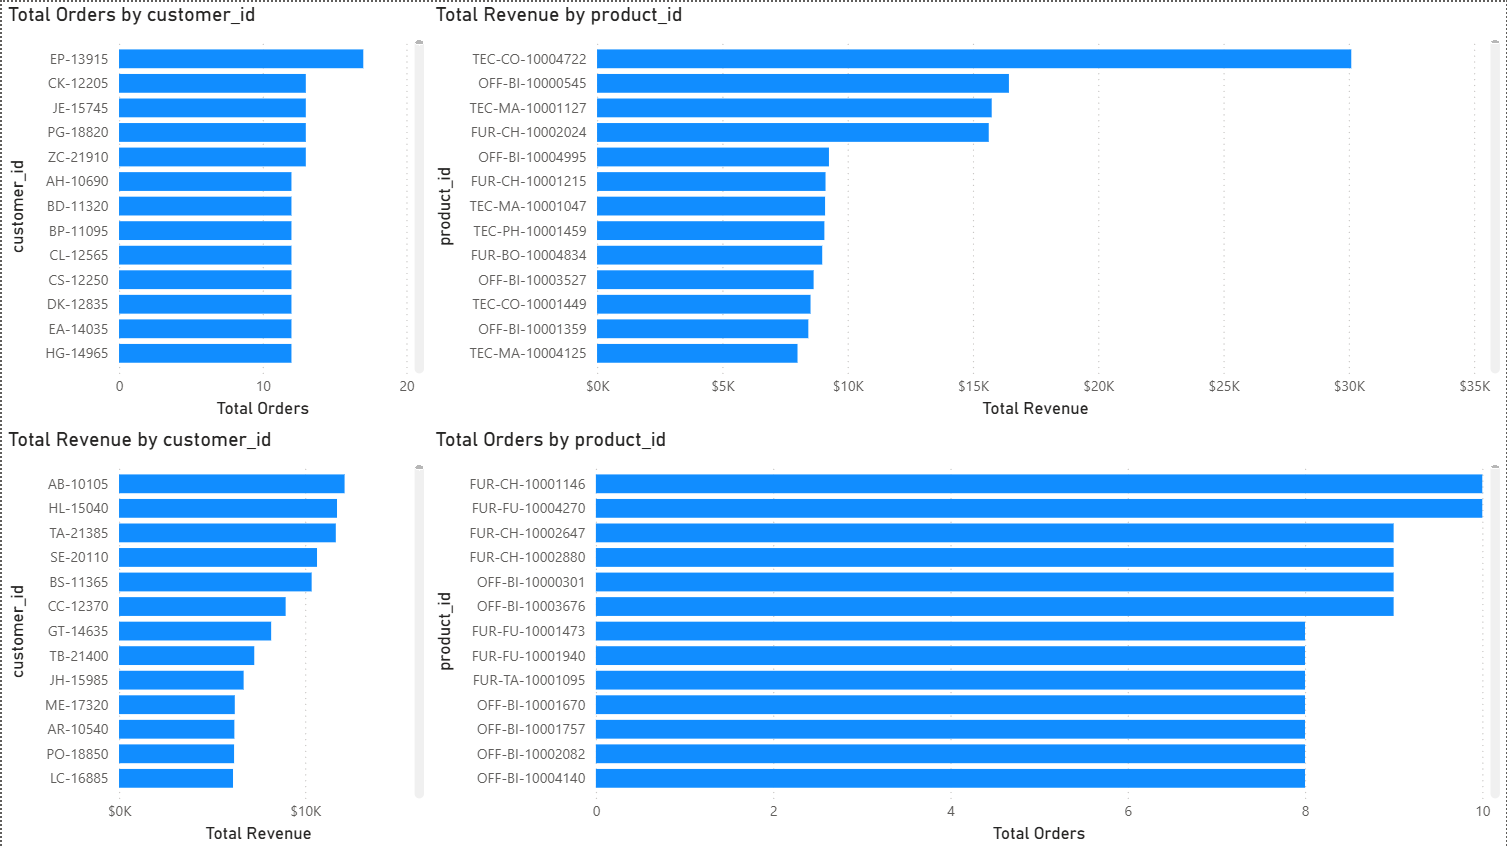

Layout of this report page (visuals, bound fields, positions):
{"tool":"powerbi","page":{"name":"Page 3: Customer & Product Insights","canvas":[1280,720],"ordinal":2},"visuals":[{"type":"clusteredBarChart","fields":{"Y":["Key Measures.Total Orders"],"Category":["cleaned_sales_final.customer_id"]},"box":[0,0,364.4,359.1],"z":0},{"type":"clusteredBarChart","fields":{"Y":["Key Measures.Total Revenue"],"Category":["cleaned_sales_final.customer_id"]},"box":[0,361.7,364.4,359.1],"z":1000},{"type":"clusteredBarChart","fields":{"Y":["Key Measures.Total Revenue"],"Category":["cleaned_sales_final.product_id"]},"box":[364.4,0,916.2,359.1],"z":2000},{"type":"clusteredBarChart","fields":{"Y":["Key Measures.Total Orders"],"Category":["cleaned_sales_final.product_id"]},"box":[364.4,361.7,916.2,359.1],"z":3000}]}

Visuals, with their boxes in screenshot pixels (x1, y1, x2, y2), scaled from the page's 1280x720 canvas onto the 1507x848 screenshot:
clusteredBarChart - Key Measures.Total Orders x cleaned_sales_final.customer_id: <bbox>0, 0, 429, 423</bbox>
clusteredBarChart - Key Measures.Total Revenue x cleaned_sales_final.customer_id: <bbox>0, 426, 429, 847</bbox>
clusteredBarChart - Key Measures.Total Revenue x cleaned_sales_final.product_id: <bbox>429, 0, 1506, 423</bbox>
clusteredBarChart - Key Measures.Total Orders x cleaned_sales_final.product_id: <bbox>429, 426, 1506, 847</bbox>
